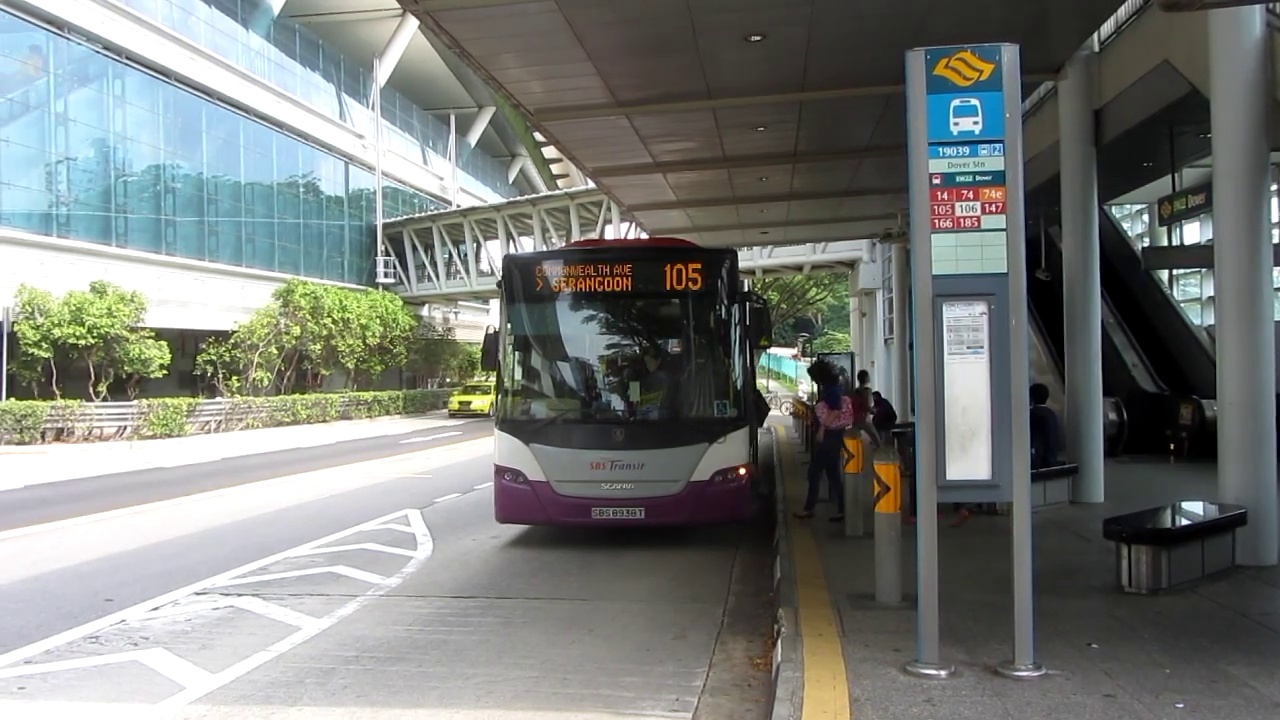bus panel: (528, 260, 706, 297)
